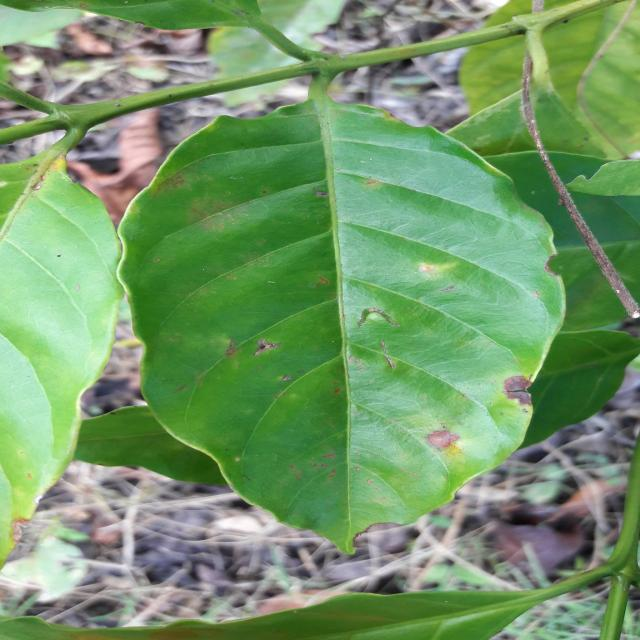Enfermedad-Roya: (117, 91, 566, 545)
